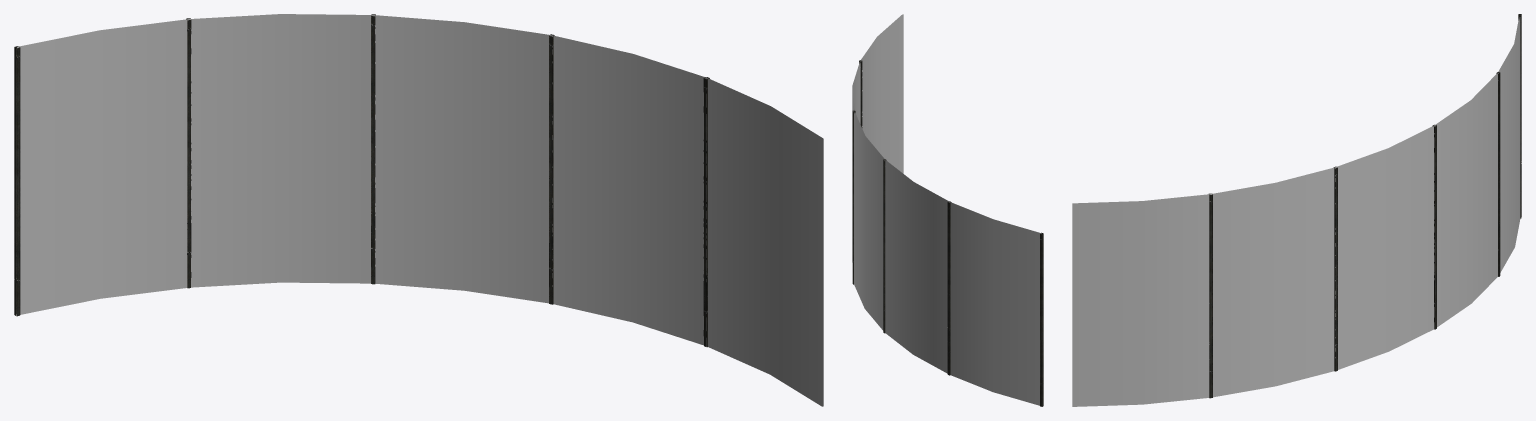
The model's file is tesla_modules_core_cage_inner.dae.
3 renders of one model, left to right at view 1: azimuth 30°, elevation 25°; view 2: azimuth 150°, elevation 25°; view 3: azimuth 270°, elevation 25°, orthographic. The views are drawn at different scales.
Parts seen in each view (by area): view 1: polySurface73, polySurface80; view 2: polySurface73, polySurface80; view 3: polySurface73, polySurface80.
Part boxes in pixels (x1=…): polySurface73: x1=17, y1=14, x2=823, y2=406; polySurface80: x1=14, y1=14, x2=709, y2=347; polySurface73: x1=852, y1=14, x2=1041, y2=405; polySurface80: x1=852, y1=60, x2=1043, y2=406; polySurface73: x1=1072, y1=17, x2=1520, y2=406; polySurface80: x1=1209, y1=14, x2=1521, y2=398.
Bounding box in the file's own units: 601 × 300 × 601.
